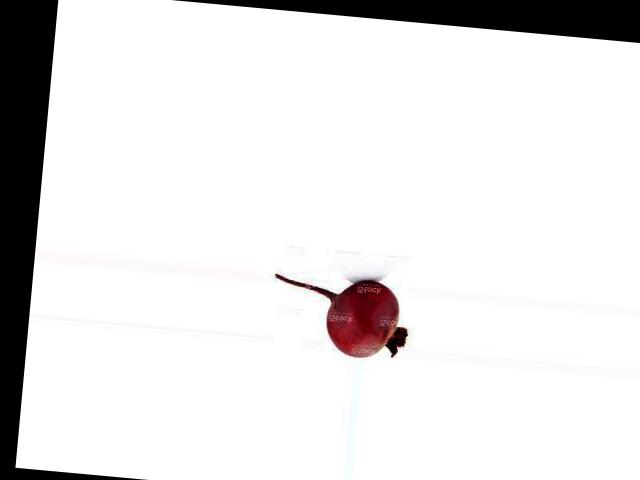beet: (269, 272, 412, 361)
